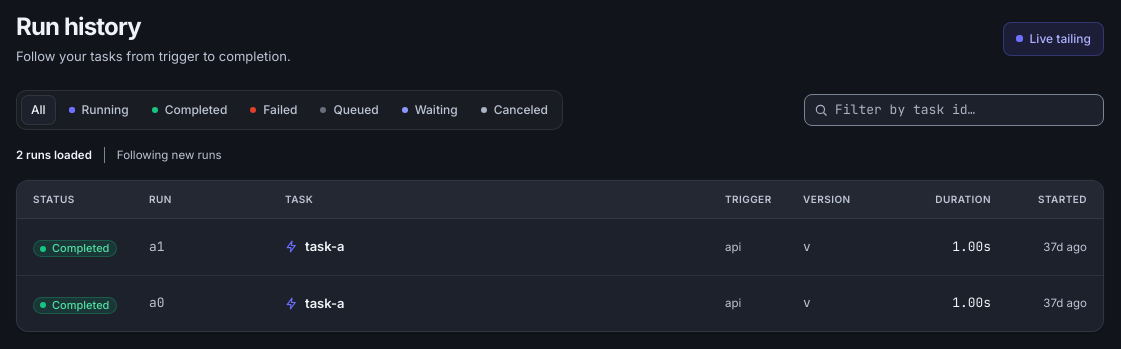
Scenario: RunsList server-side search › sends the query as taskId and shows a matching run that was not on the first page
The width and height of the screenshot is (1121, 349).
Expected: the text "a1" is shown, [149,238,164,256]
Expected: the text "z1" is not shown
Type "task-z" into the field with placeholder "Filter by task id…" at (954, 110), box [804,94,1104,126]
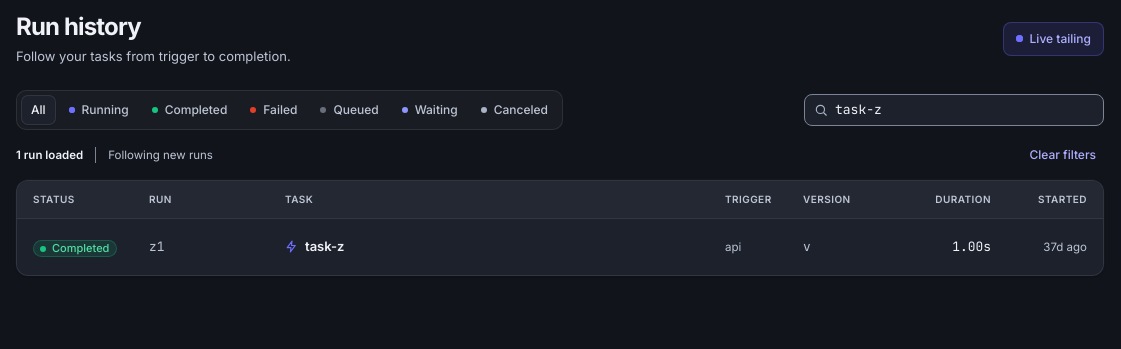
Now the text "z1" is shown, box [149,238,164,256]
Now the button "a1" is gone
